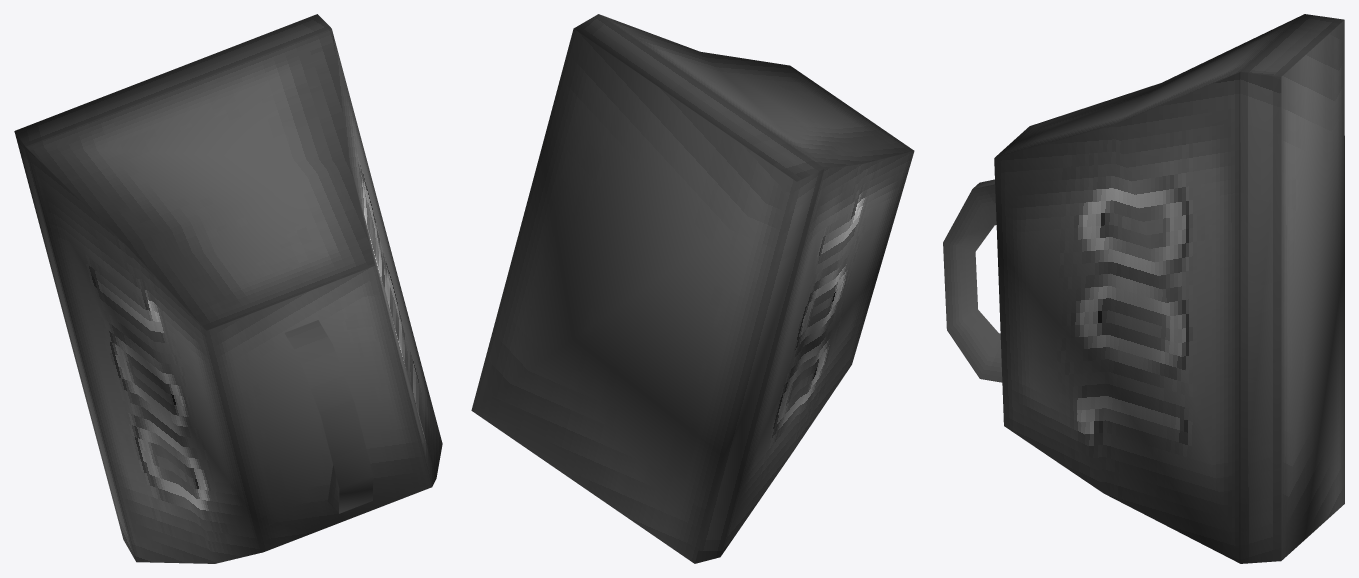
The model's file is tt_m_chr_avt_acc_hat_weight.glb.
3 renders of one model, left to right at view 1: azimuth 30°, elevation 25°; view 2: azimuth 150°, elevation 25°; view 3: azimuth 270°, elevation 25°, orthographic. The views are drawn at different scales.
Parts seen in each view (by area): view 1: weightHat; view 2: weightHat; view 3: weightHat.
Boxes of the visible parts, x1=… form: weightHat: x1=14, y1=14, x2=442, y2=563; weightHat: x1=471, y1=14, x2=914, y2=563; weightHat: x1=943, y1=14, x2=1344, y2=563.
Bounding box in the file's own units: 3.28 × 4.16 × 2.96.
Materials: 1 (1 with a texture image).
